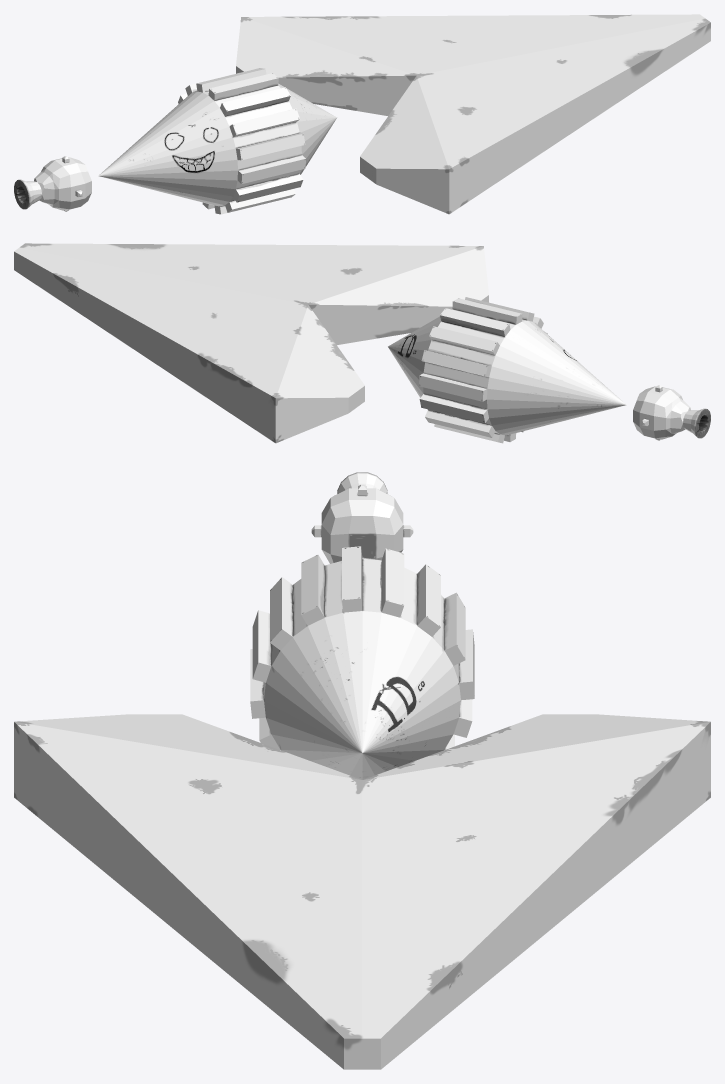
File: spike-enemy.fbx
3 views of the same model, one above another, from view 1: azimuth 30°, elevation 25°; view 2: azimuth 150°, elevation 25°; view 3: azimuth 270°, elevation 25° (orthographic). The views are drawn at different scales.
Visible parts, largest first — view 1: Spike, Cone, Booster; view 2: Spike, Cone, Booster; view 3: Spike, Cone, Booster.
Boxes of the visible parts, <box> form: Spike: <box>236,14,710,214</box>; Cone: <box>98,68,336,214</box>; Booster: <box>14,156,91,211</box>; Spike: <box>14,243,488,443</box>; Cone: <box>388,297,626,443</box>; Booster: <box>633,385,710,440</box>; Spike: <box>14,714,710,1069</box>; Cone: <box>250,546,474,779</box>; Booster: <box>311,472,413,563</box>.
Bounding box in the file's own units: 185 × 31.47 × 97.68.
3 materials, 3 textured.
